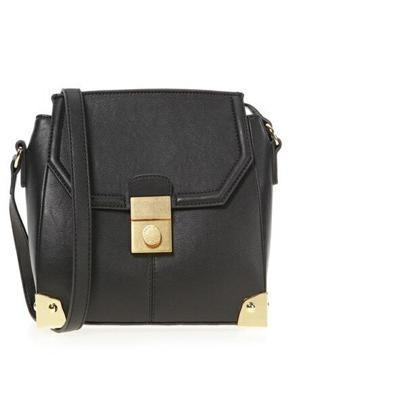not trash: (9, 90, 284, 333)
